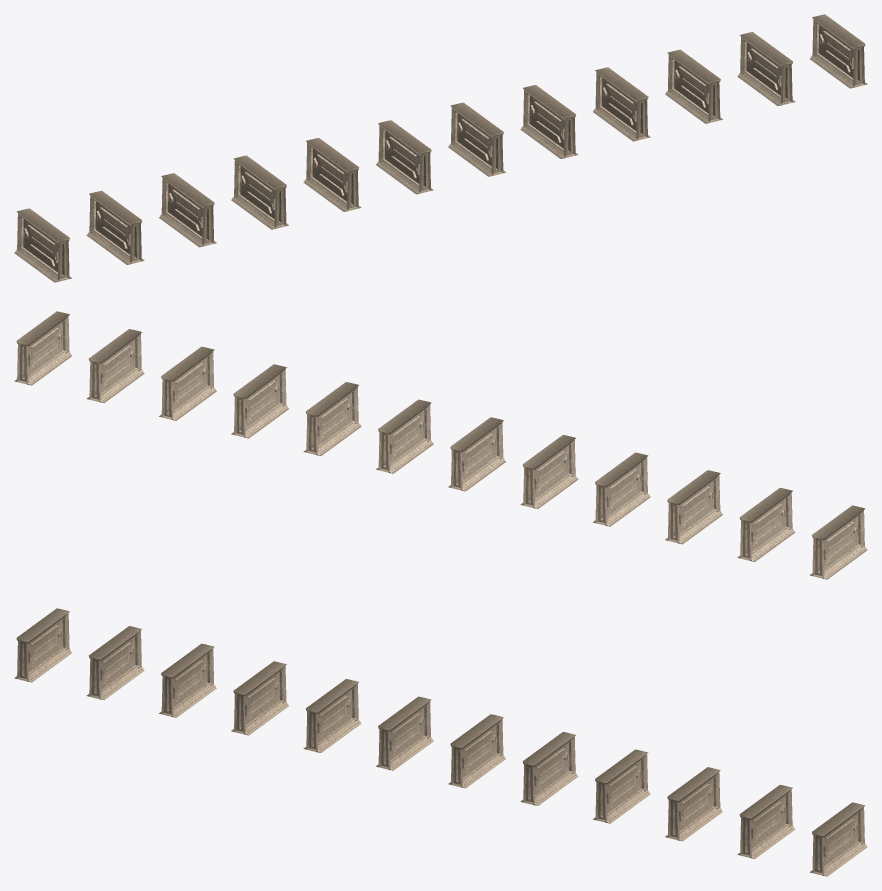
Rendered from conveyorstand.glb.
3 renders of one model, top to bottom at view 1: azimuth 30°, elevation 25°; view 2: azimuth 150°, elevation 25°; view 3: azimuth 330°, elevation 25°, orthographic.
Parts seen in each view (by area): view 1: Cube-colonly7; view 2: Cube-colonly7; view 3: Cube-colonly7.
Part boxes in pixels (box(x1,y1,x2,y2)): Cube-colonly7: box(14, 14, 867, 282); Cube-colonly7: box(14, 311, 867, 579); Cube-colonly7: box(14, 608, 867, 876).
Size of the model in its own units: 20.86 by 1 by 1.87.
1 material, 1 textured.
